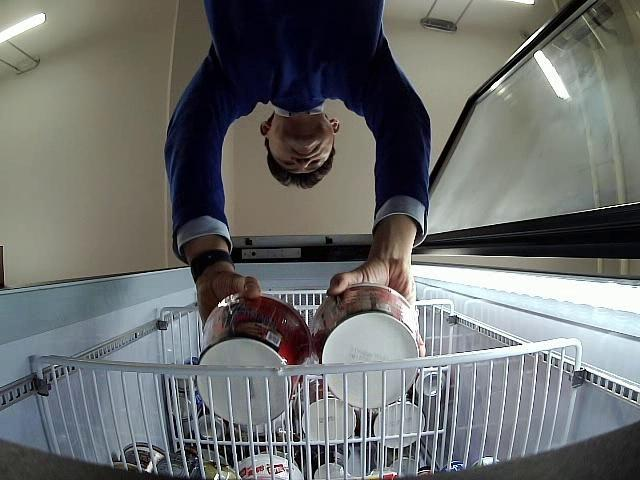01_ShinRamen_L: (195, 291, 312, 428), (312, 284, 420, 410)
